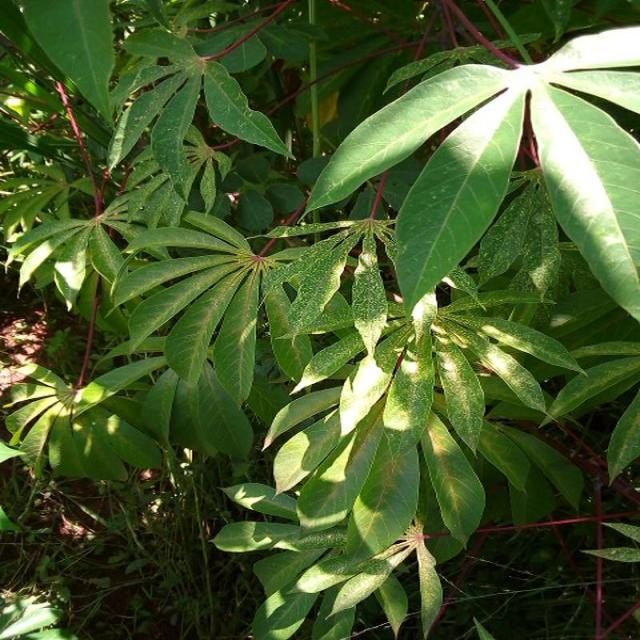cassava leaf: (302, 23, 638, 326), (393, 82, 526, 318)
